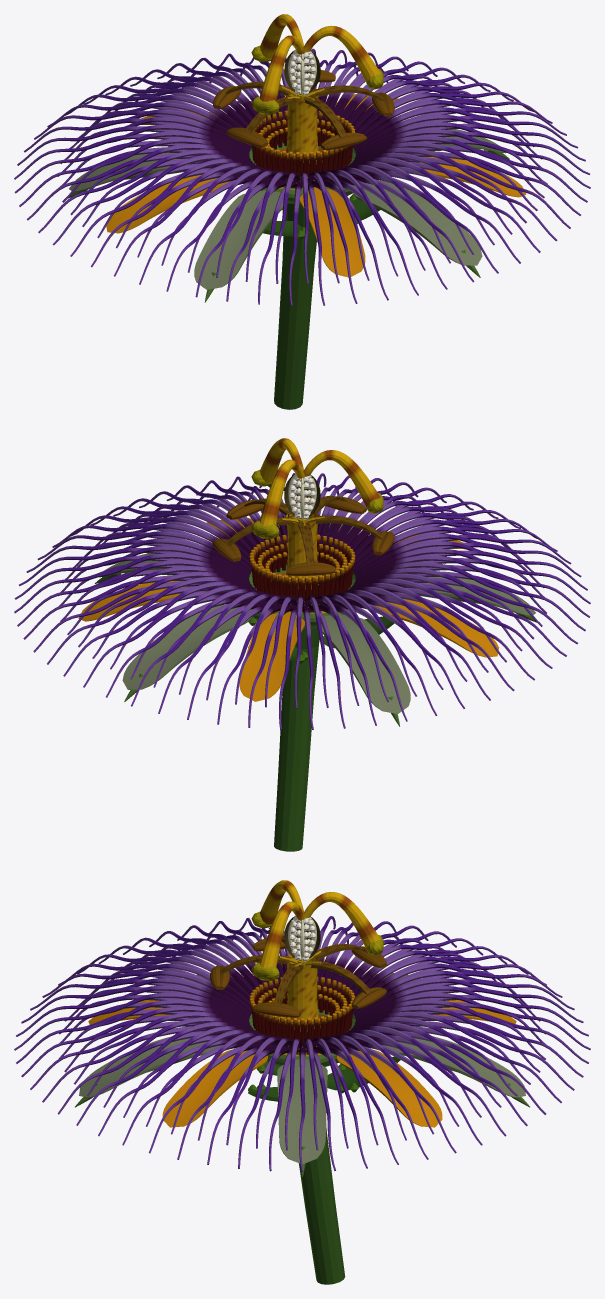
File: espeletia_grandiflora.obj
The picture shows the model from 3 angles, top to bottom: view 1: azimuth 30°, elevation 25°; view 2: azimuth 150°, elevation 25°; view 3: azimuth 270°, elevation 25°; orthographic projection.
Visible parts, largest first — view 1: Corona_Filamentos_Radii, Caliz_Sepalos, Pedicelo_Hipanto, Corola_Petalos, Gineceo_Estilos_Estigmas, Androceo_Estambres, Corona_Interna_Pali, Columna_Androginoforo, Ovulos_Placentacion_Parietal, Epicaliz_Bracteas_Involucrales; view 2: Corona_Filamentos_Radii, Caliz_Sepalos, Pedicelo_Hipanto, Corola_Petalos, Corona_Interna_Pali, Gineceo_Estilos_Estigmas, Androceo_Estambres, Columna_Androginoforo, Ovulos_Placentacion_Parietal; view 3: Corona_Filamentos_Radii, Caliz_Sepalos, Corola_Petalos, Pedicelo_Hipanto, Gineceo_Estilos_Estigmas, Corona_Interna_Pali, Androceo_Estambres, Columna_Androginoforo, Ovulos_Placentacion_Parietal, Epicaliz_Bracteas_Involucrales.
Part boxes in pixels (x1,y1,x2,y2): Corona_Filamentos_Radii: [14, 48, 590, 305]; Caliz_Sepalos: [65, 101, 509, 302]; Pedicelo_Hipanto: [243, 141, 355, 409]; Corola_Petalos: [106, 94, 526, 277]; Gineceo_Estilos_Estigmas: [251, 14, 383, 114]; Androceo_Estambres: [213, 70, 394, 149]; Corona_Interna_Pali: [252, 110, 355, 177]; Columna_Androginoforo: [286, 88, 322, 164]; Ovulos_Placentacion_Parietal: [288, 50, 316, 95]; Epicaliz_Bracteas_Involucrales: [263, 194, 380, 239]; Corona_Filamentos_Radii: [14, 473, 590, 729]; Caliz_Sepalos: [95, 523, 539, 726]; Pedicelo_Hipanto: [249, 564, 355, 851]; Corola_Petalos: [78, 518, 499, 701]; Corona_Interna_Pali: [249, 534, 355, 601]; Gineceo_Estilos_Estigmas: [251, 438, 383, 539]; Androceo_Estambres: [212, 495, 394, 575]; Columna_Androginoforo: [286, 512, 318, 589]; Ovulos_Placentacion_Parietal: [288, 474, 316, 519]; Corona_Filamentos_Radii: [14, 916, 590, 1171]; Caliz_Sepalos: [75, 973, 529, 1177]; Corola_Petalos: [88, 958, 516, 1127]; Pedicelo_Hipanto: [249, 1009, 355, 1284]; Gineceo_Estilos_Estigmas: [251, 880, 383, 980]; Corona_Interna_Pali: [249, 976, 355, 1044]; Androceo_Estambres: [210, 936, 386, 1017]; Columna_Androginoforo: [285, 954, 320, 1031]; Ovulos_Placentacion_Parietal: [288, 916, 316, 961]; Epicaliz_Bracteas_Involucrales: [248, 1056, 400, 1101].
Bounding box in the file's own units: 71.33 × 52.9 × 71.33.
